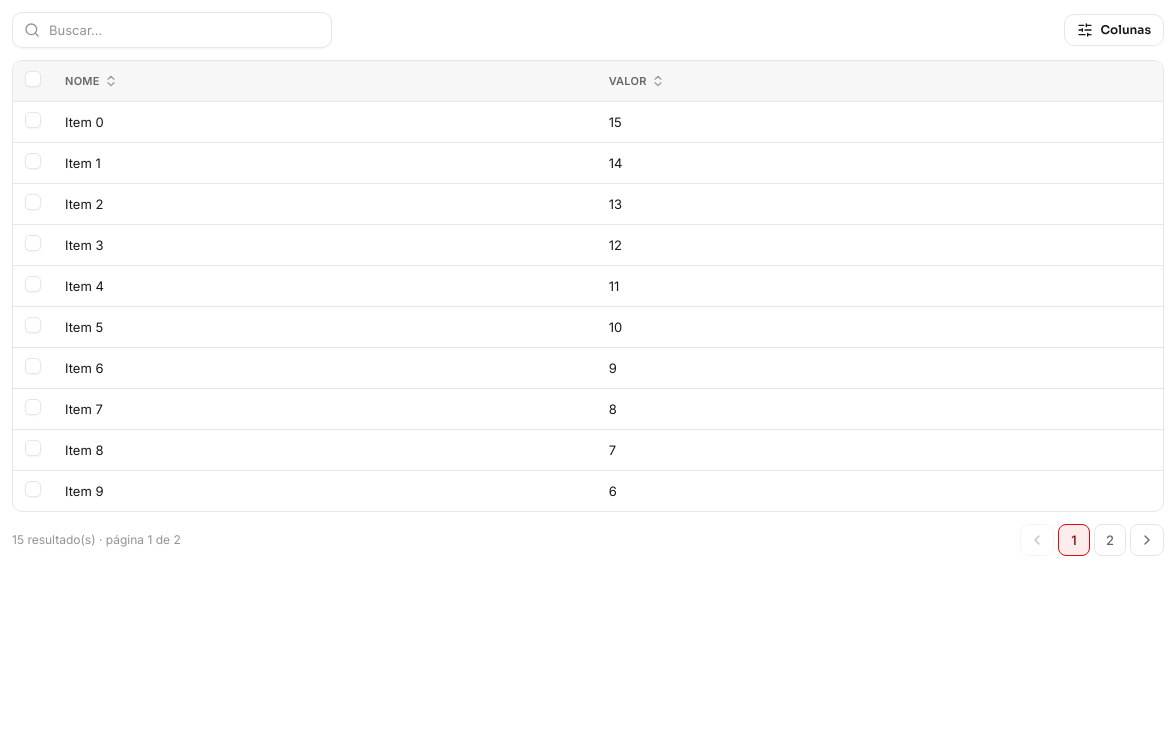
it: DataTable › filtra pela busca
Type "Item 14" into the search field. click: x=172, y=30
box: [12,12,332,48]
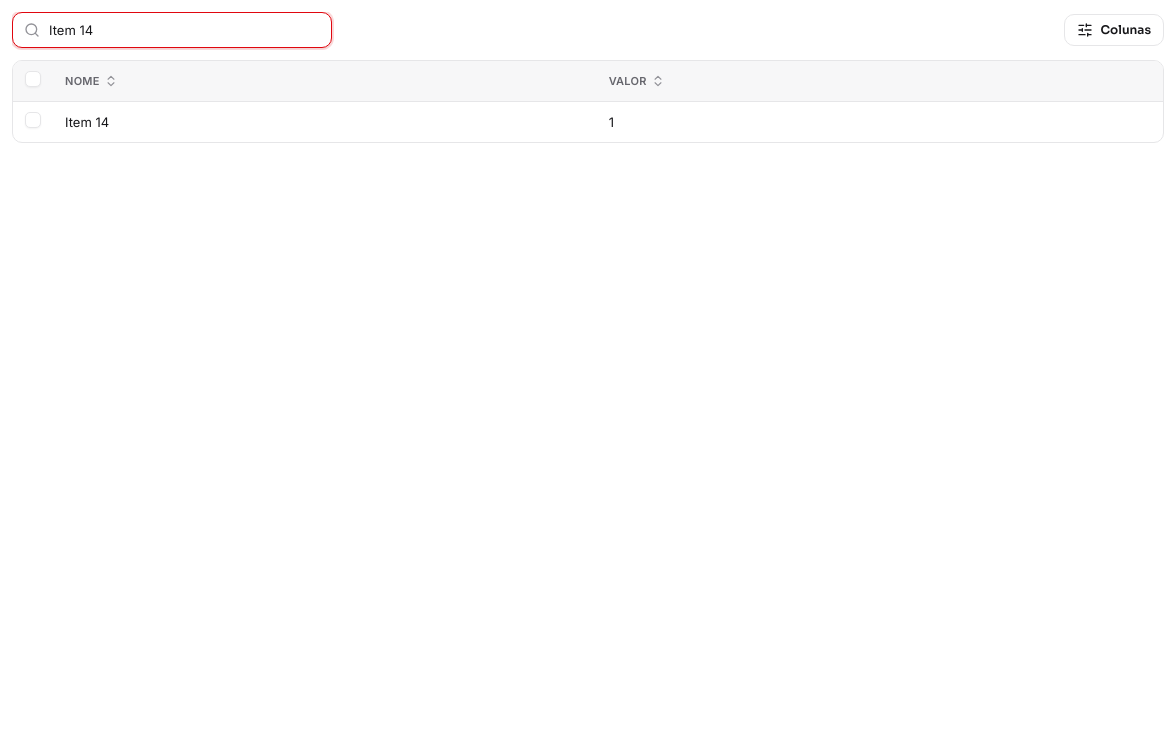
Check: the row "Item 14 1" is shown, box [13,101,1163,142]
